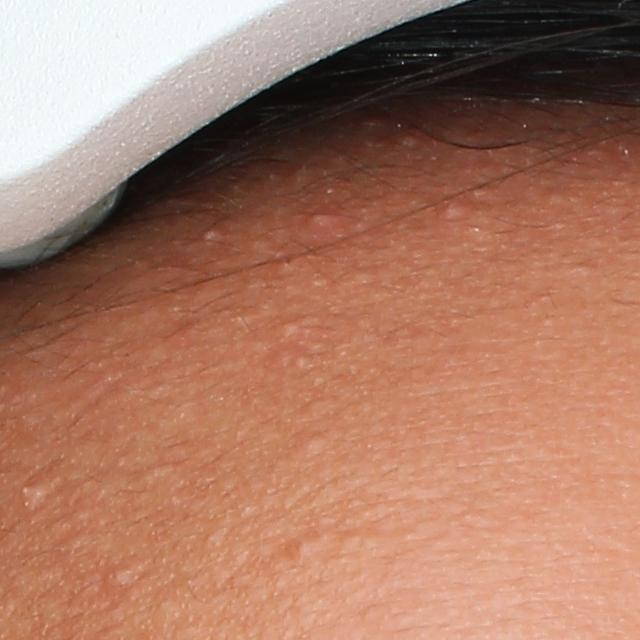comedo: (13, 477, 55, 513), (100, 564, 135, 602), (298, 432, 325, 458), (440, 201, 470, 221), (290, 536, 314, 561), (276, 317, 300, 341)
